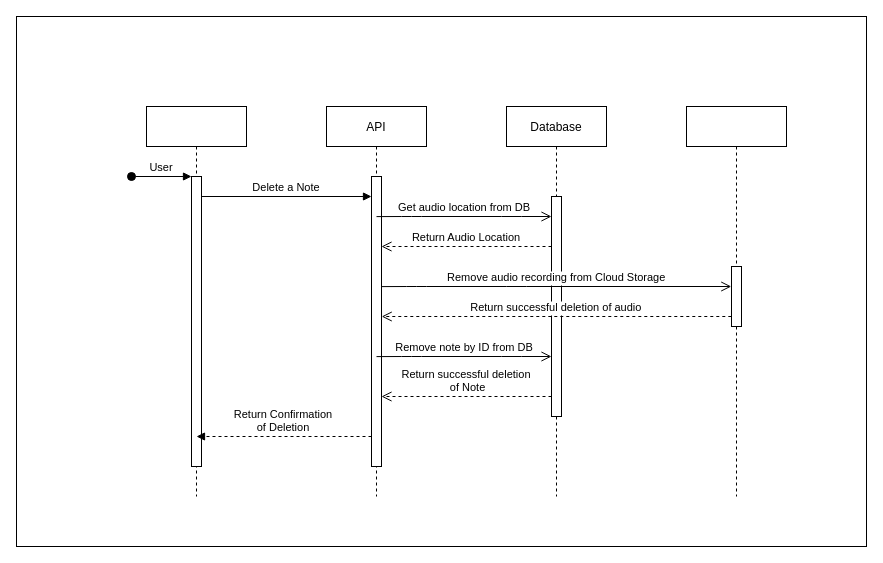
This 883x563 diagram has some shape labels left out. Each missing label, with the box of its shape:
App: (146, 106, 246, 496)
GCP: (686, 106, 786, 496)
